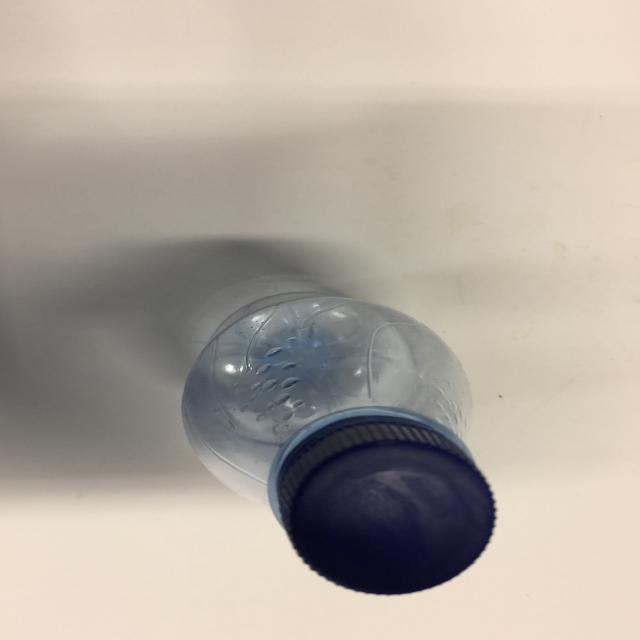plastic: (180, 290, 498, 595)
